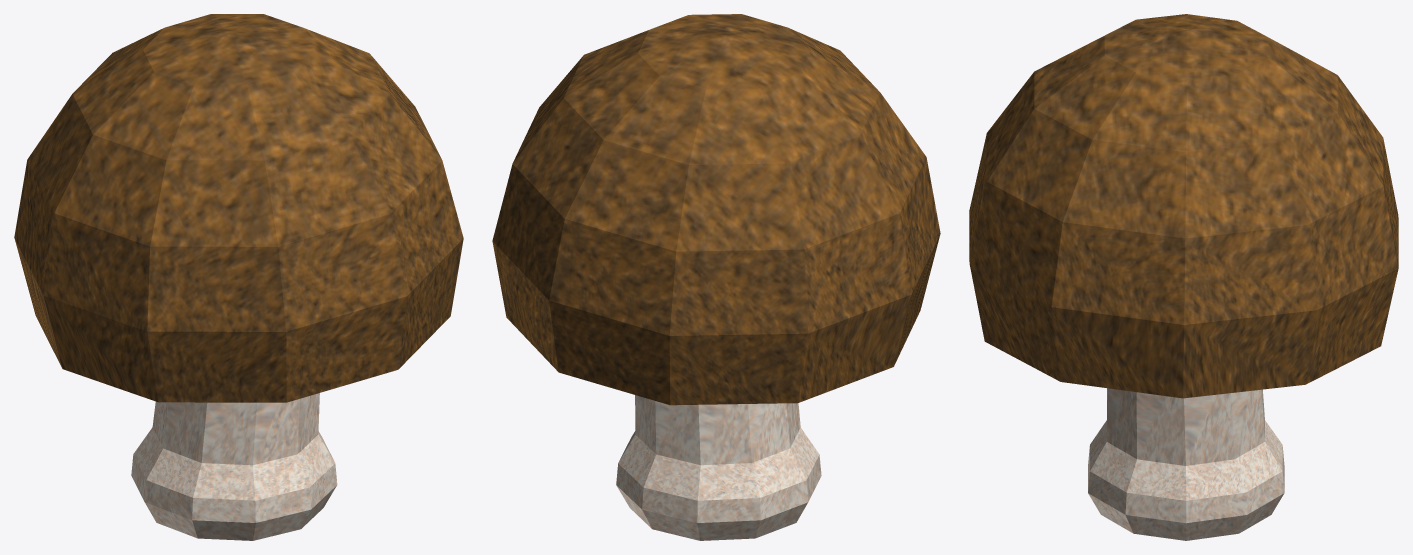
The model's file is shroom.obj.
3 views of the same model, side by side, from view 1: azimuth 30°, elevation 25°; view 2: azimuth 150°, elevation 25°; view 3: azimuth 270°, elevation 25° (orthographic).
Parts seen in each view (by area): view 1: Sphere.001, Sphere.003; view 2: Sphere.001, Sphere.003; view 3: Sphere.001, Sphere.003.
Part boxes in pixels (box(x1,y1,x2,y2)): Sphere.001: box(14, 14, 463, 402); Sphere.003: box(131, 393, 337, 540); Sphere.001: box(492, 14, 940, 405); Sphere.003: box(616, 395, 821, 540); Sphere.001: box(969, 14, 1398, 398); Sphere.003: box(1088, 388, 1284, 540).
Size of the model in its own units: 2 by 2.3 by 1.9.
